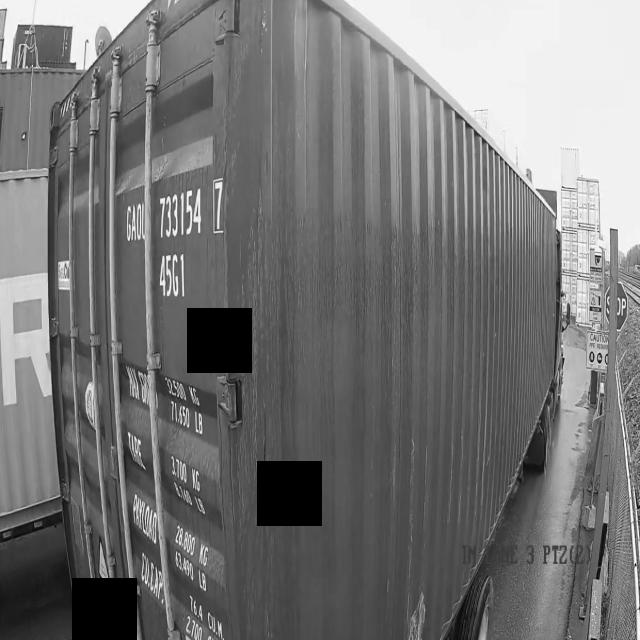container_number: (117, 185, 230, 312)
other_container_info: (126, 355, 226, 636)
truck_with_container: (15, 0, 568, 640)
